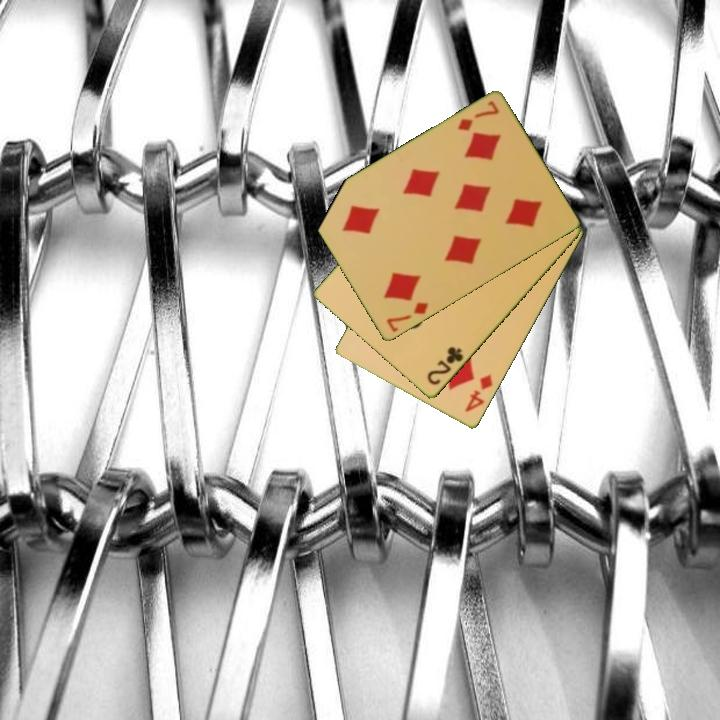2c: (424, 343, 466, 388)
4d: (461, 371, 496, 416)
7d: (383, 299, 431, 335), (454, 98, 502, 134)
